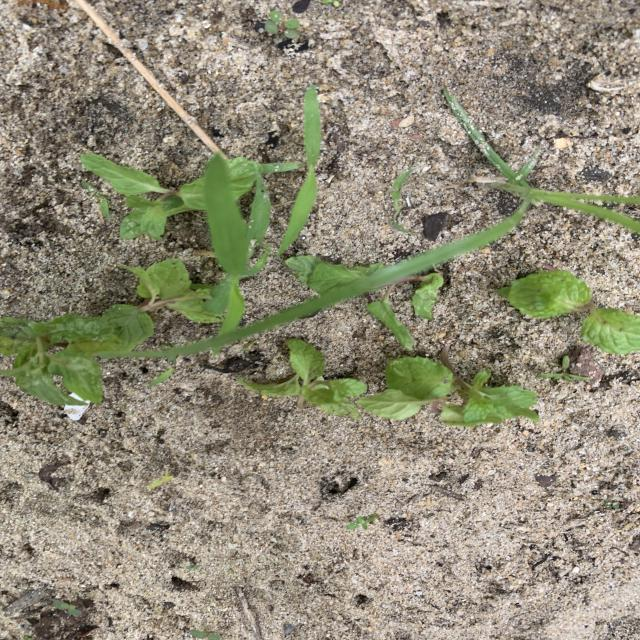crop: (358, 346, 539, 427), (497, 267, 640, 354), (97, 258, 222, 351), (0, 314, 122, 406), (81, 154, 206, 240), (253, 339, 366, 419), (285, 255, 391, 295), (366, 291, 412, 349), (225, 158, 264, 200), (413, 272, 444, 320)
weed: (164, 143, 640, 359), (204, 156, 270, 335), (279, 86, 321, 254), (444, 88, 480, 142), (539, 355, 590, 383), (391, 169, 413, 233), (255, 11, 301, 41), (83, 181, 109, 219), (149, 358, 176, 387), (146, 470, 174, 492), (346, 514, 379, 530), (53, 600, 82, 616), (189, 628, 223, 640), (406, 198, 411, 207)
